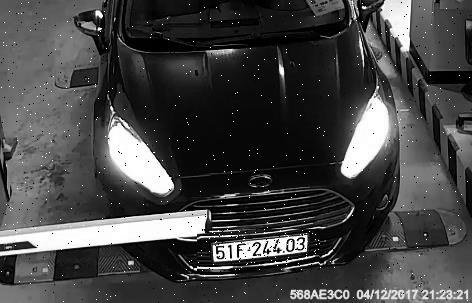License-plate: (199, 231, 322, 273)
